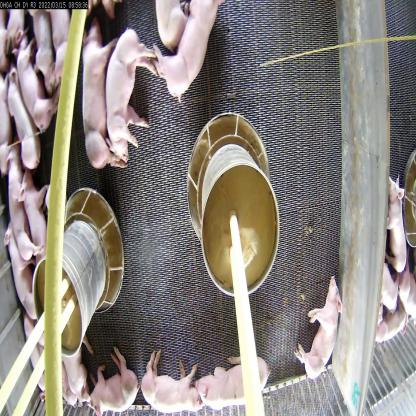Pig: (156, 0, 232, 116), (71, 13, 115, 176), (189, 340, 270, 415), (106, 30, 156, 148), (141, 330, 208, 416), (294, 271, 343, 376), (14, 172, 64, 256), (90, 348, 142, 415), (5, 232, 32, 320)
